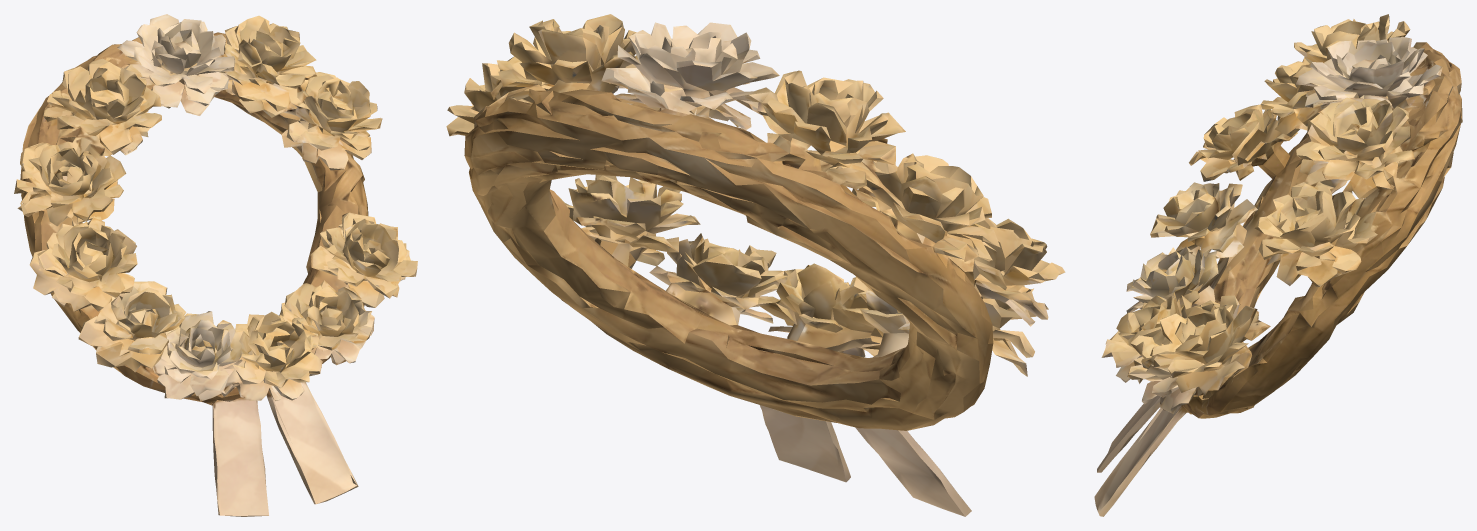
File: wreath.glb
The picture shows the model from 3 angles, left to right: view 1: azimuth 30°, elevation 25°; view 2: azimuth 150°, elevation 25°; view 3: azimuth 270°, elevation 25°; orthographic projection. The views are drawn at different scales.
Visible parts, largest first — view 1: geometry_0; view 2: geometry_0; view 3: geometry_0.
Boxes of the visible parts, <box> form: geometry_0: <box>14,14,417,516</box>; geometry_0: <box>446,14,1065,516</box>; geometry_0: <box>1094,14,1462,516</box>.
Bounding box in the file's own units: 0.45 × 0.4582 × 0.3447.
1 material, 1 textured.
